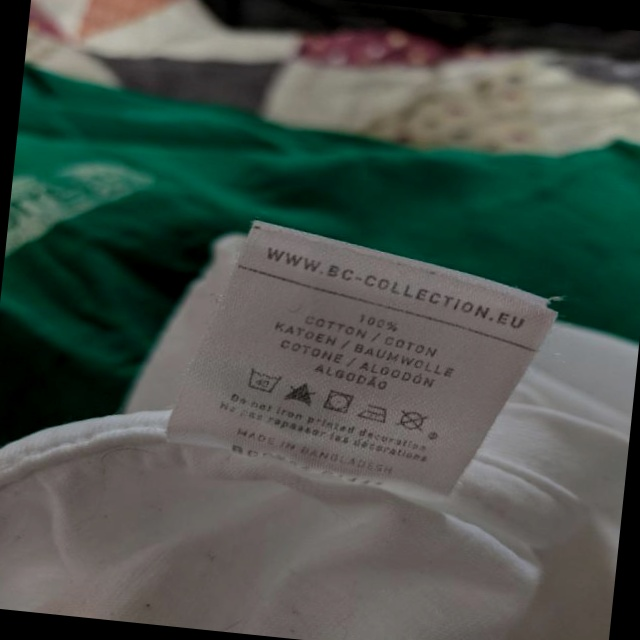40C: (246, 366, 285, 397)
DN_bleach: (285, 375, 320, 409)
DN_dry_clean: (395, 408, 430, 435)
iron_medium: (359, 401, 391, 425)
tumble_dry_low: (321, 387, 356, 417)
